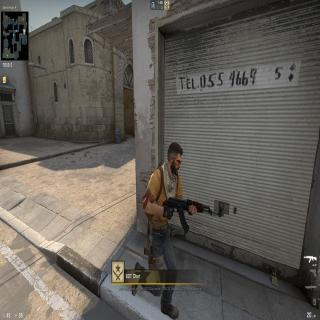T-Head: (167, 140, 184, 178)
